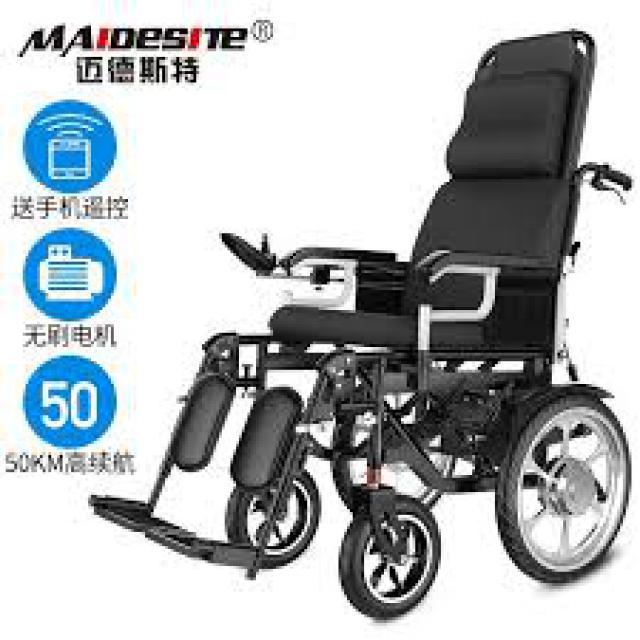wheelchair: (73, 17, 634, 634)
